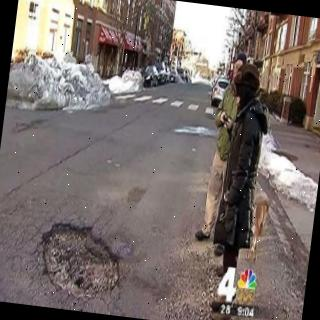pothole: (41, 223, 121, 299)
